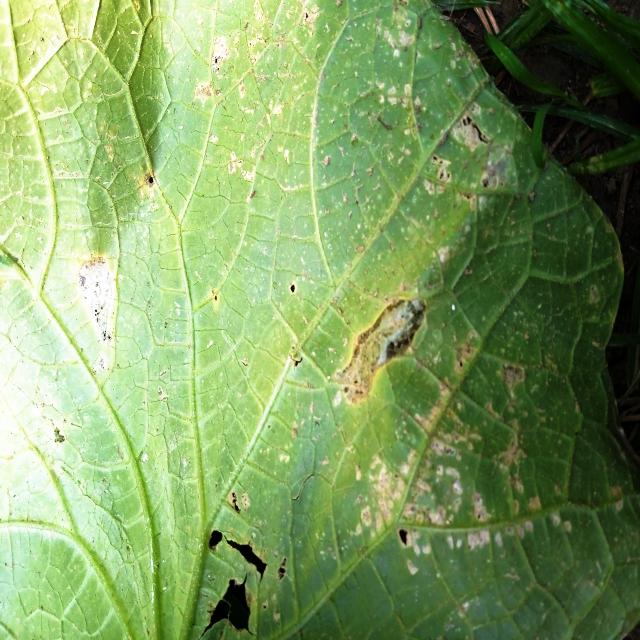Anthracnose: (189, 527, 270, 640)
